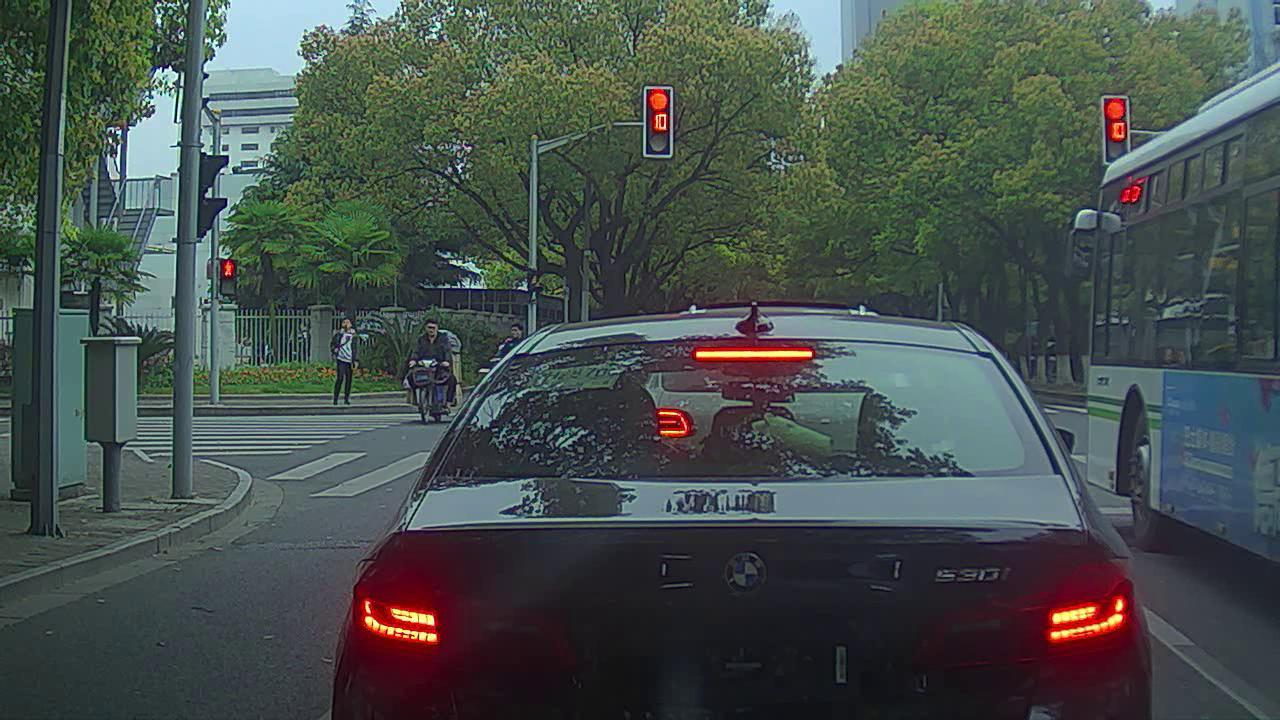traffic_light: (647, 87, 672, 161), (1105, 94, 1131, 160)
